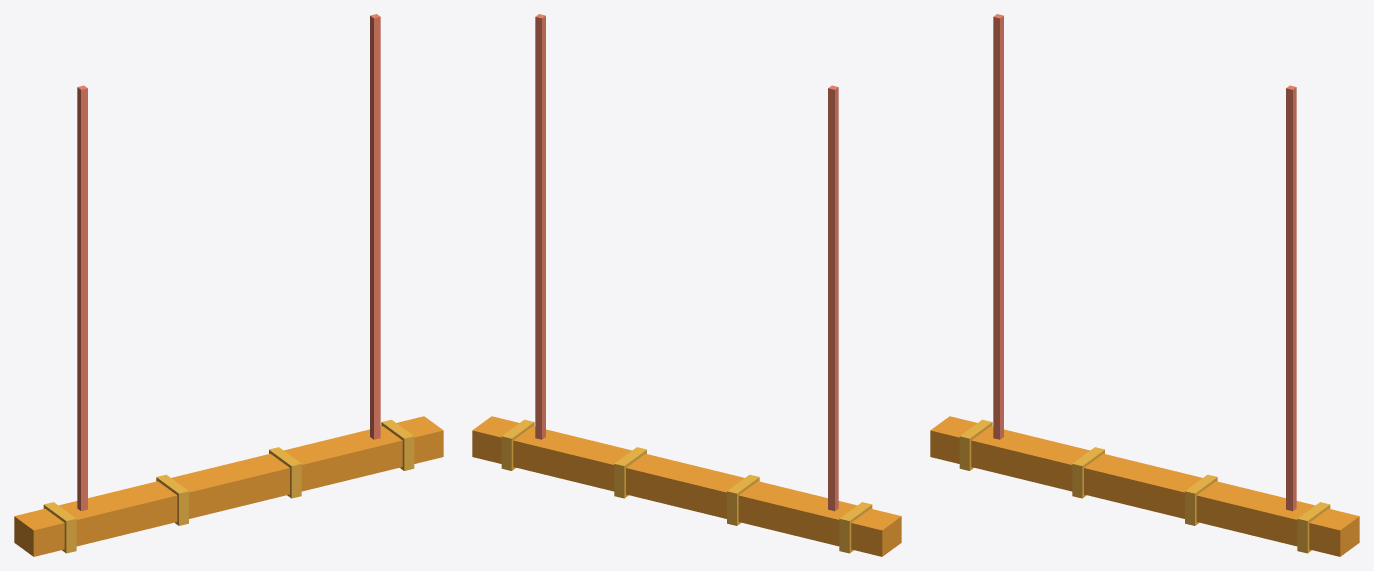
The model's file is beam.glb.
The picture shows the model from 3 angles, left to right: view 1: azimuth 30°, elevation 25°; view 2: azimuth 150°, elevation 25°; view 3: azimuth 330°, elevation 25°; orthographic projection.
Parts seen in each view (by area): view 1: Beam, Rope0, Rope1, Band0, Band3, Band1, Band2; view 2: Beam, Rope0, Rope1, Band0, Band3, Band1, Band2; view 3: Beam, Rope0, Rope1, Band3, Band0, Band2, Band1.
Boxes of the visible parts, x1,y1,x2,y2 form: Beam: (14,416,443,556); Rope0: (77,85,87,511); Rope1: (370,14,380,439); Band0: (43,502,76,553); Band3: (381,419,414,470); Band1: (156,474,188,525); Band2: (269,447,301,498); Beam: (472,416,901,556); Rope0: (828,85,838,511); Rope1: (535,14,545,439); Band0: (839,502,872,553); Band3: (501,419,534,470); Band1: (727,474,759,525); Band2: (614,447,646,498); Beam: (930,416,1359,556); Rope0: (993,14,1003,439); Rope1: (1286,85,1296,511); Band3: (1297,502,1330,553); Band0: (959,419,992,470); Band2: (1185,474,1217,525); Band1: (1072,447,1104,498).
Size of the model in its own units: 7.28 by 7.65 by 0.7.
